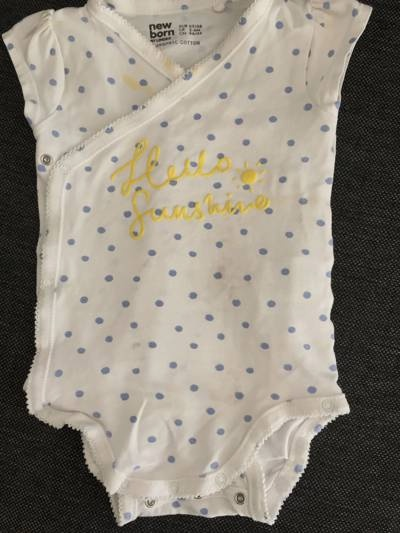Body: (0, 5, 374, 529)
